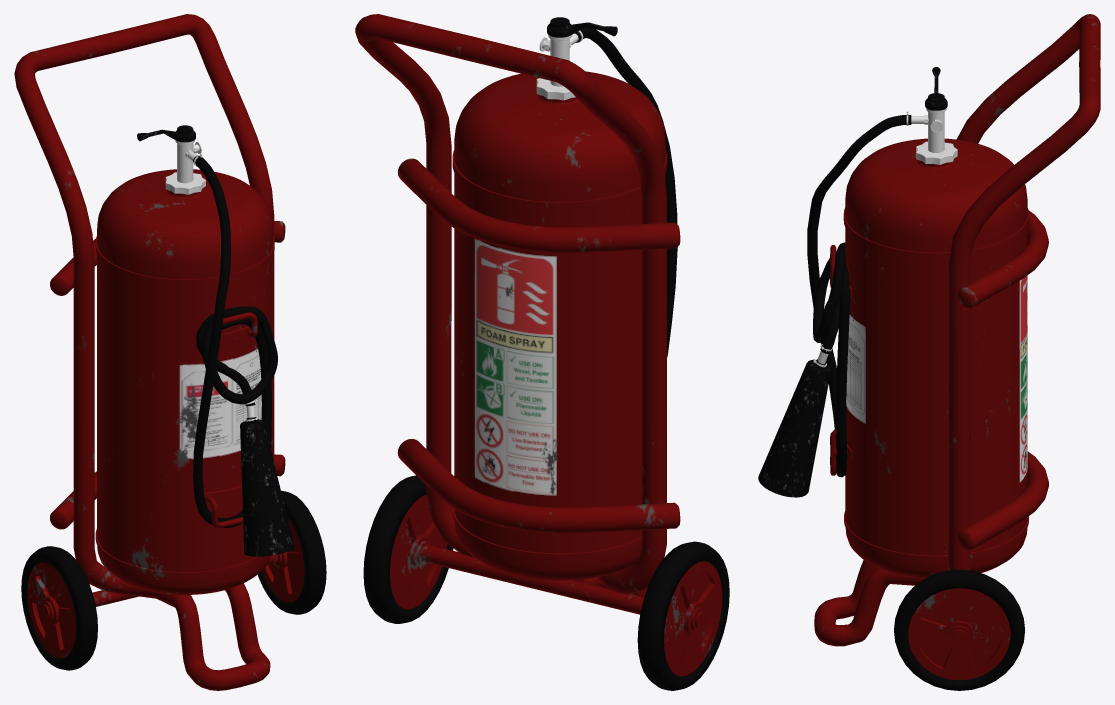
3 renders of one model, left to right at view 1: azimuth 30°, elevation 25°; view 2: azimuth 150°, elevation 25°; view 3: azimuth 270°, elevation 25°, orthographic. The views are drawn at different scales.
Parts seen in each view (by area): view 1: Large-Export; view 2: Large-Export; view 3: Large-Export.
Boxes of the visible parts, box(x1,y1,x2,y2) form: Large-Export: box(14, 14, 326, 690); Large-Export: box(355, 14, 729, 690); Large-Export: box(758, 14, 1100, 690).
Bounding box in the file's own units: 0.4202 × 0.8676 × 0.4657.
Materials: 1 (1 with a texture image).
